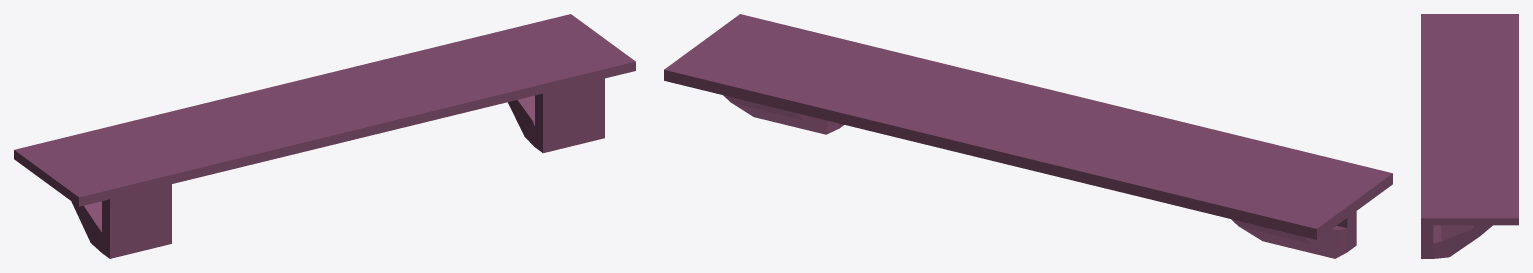
The model's file is ShelfLong.fbx.
3 renders of one model, left to right at view 1: azimuth 30°, elevation 25°; view 2: azimuth 150°, elevation 25°; view 3: azimuth 270°, elevation 25°, orthographic. The views are drawn at different scales.
Visible parts, largest first — view 1: ShelfLong1; view 2: ShelfLong1; view 3: ShelfLong1.
Boxes of the visible parts, x1=… form: ShelfLong1: x1=14, y1=14, x2=635, y2=258; ShelfLong1: x1=664, y1=14, x2=1392, y2=258; ShelfLong1: x1=1421, y1=14, x2=1518, y2=258.
Bounding box in the file's own units: 5000 × 24747 × 2936.
